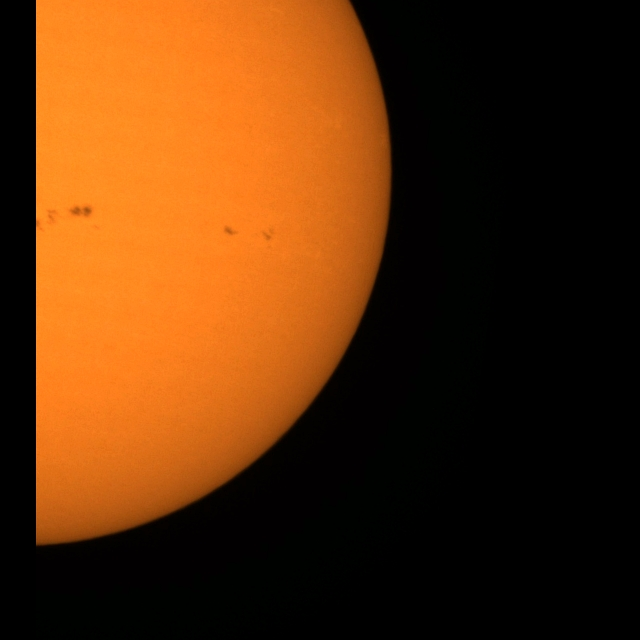sunspot: (41, 203, 93, 227), (32, 206, 68, 233), (67, 203, 94, 220), (261, 225, 275, 244), (222, 224, 239, 237)
